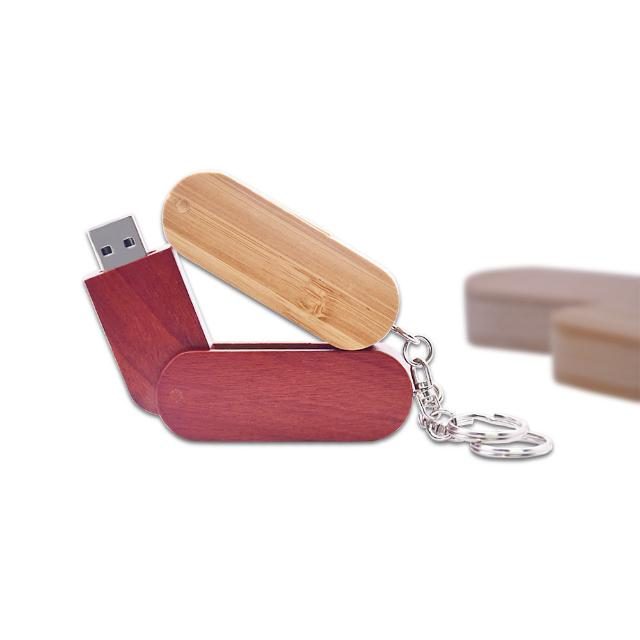USB-Flash-Drive: (84, 216, 212, 417)
